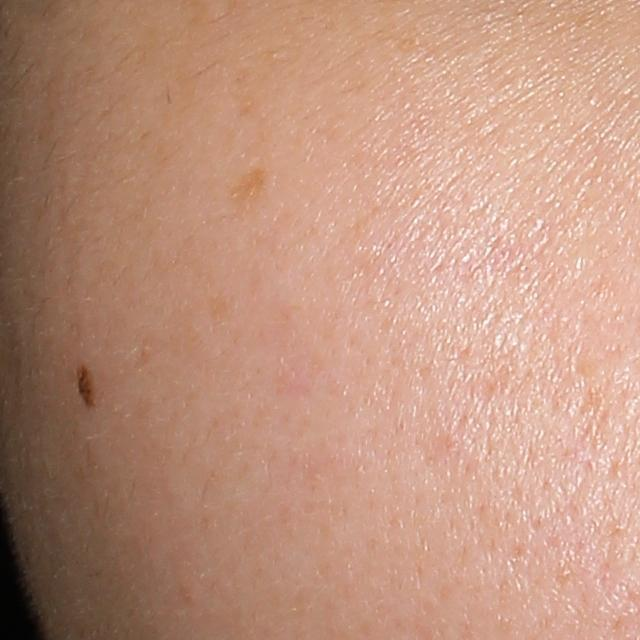melasma: (233, 166, 270, 214)
